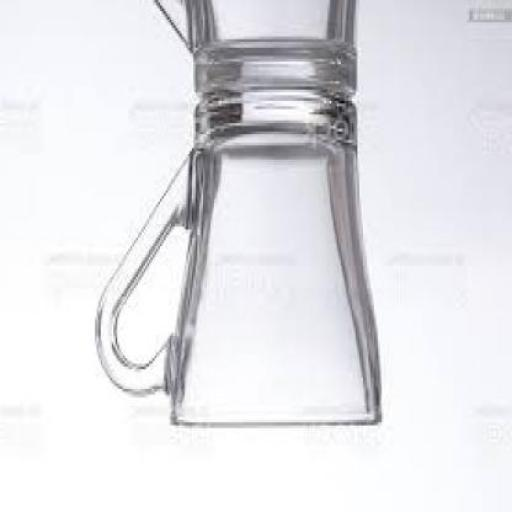glass: (96, 84, 384, 430)
